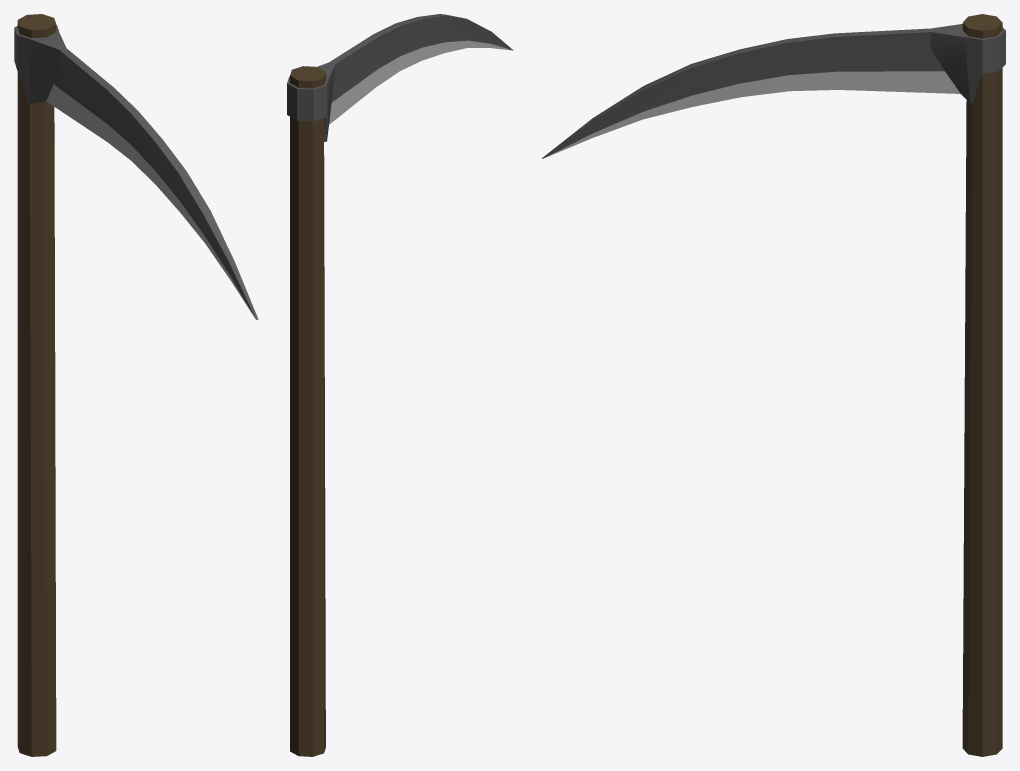
File: Scythe_01.fbx
The picture shows the model from 3 angles, left to right: view 1: azimuth 30°, elevation 25°; view 2: azimuth 150°, elevation 25°; view 3: azimuth 270°, elevation 25°; orthographic projection. The views are drawn at different scales.
Parts seen in each view (by area): view 1: pCylinder1; view 2: pCylinder1; view 3: pCylinder1.
Boxes of the visible parts, bbox=[...] form: pCylinder1: bbox=[14, 14, 258, 756]; pCylinder1: bbox=[287, 14, 513, 756]; pCylinder1: bbox=[542, 14, 1005, 756].
Bounding box in the file's own units: 18.59 × 320 × 185.
